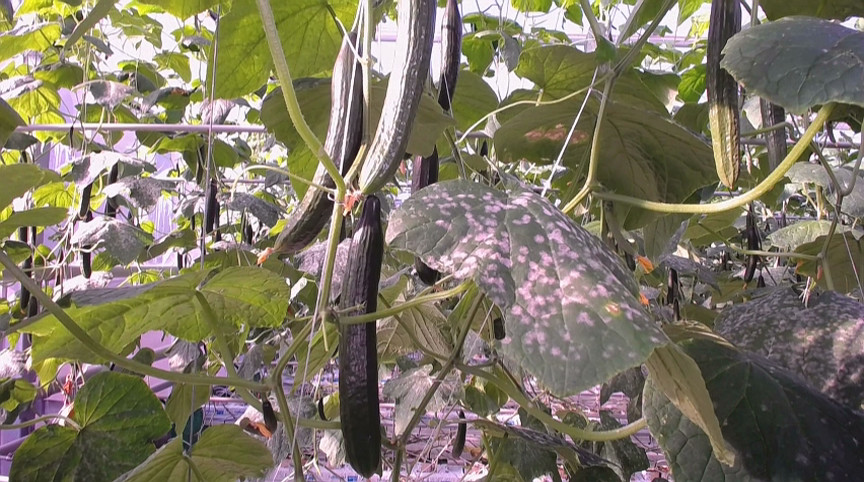cucumber: (275, 32, 364, 254), (360, 1, 434, 195), (338, 197, 383, 477), (707, 1, 741, 188), (409, 145, 440, 290), (758, 96, 787, 169)
